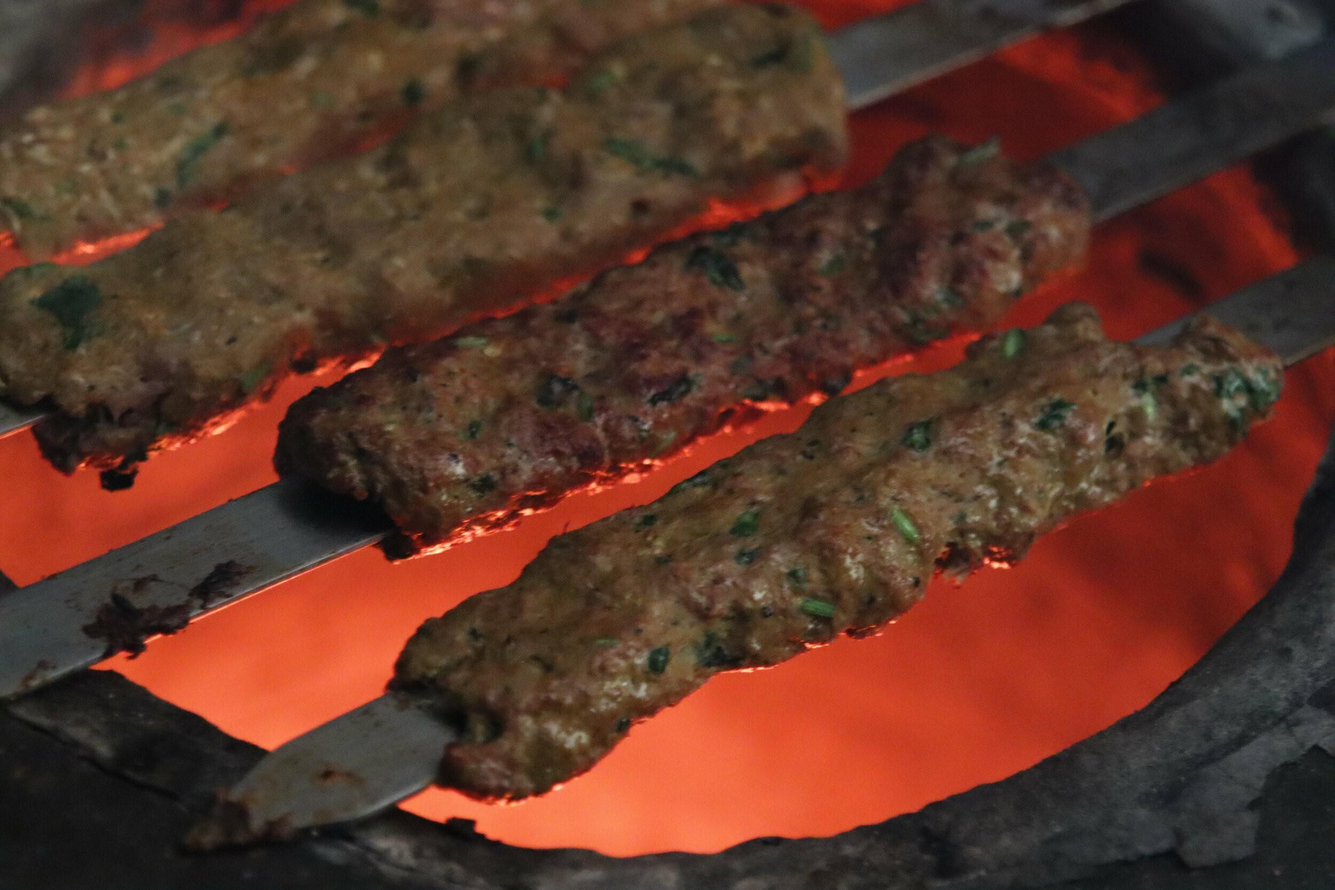Kebab: (385, 300, 1279, 804), (0, 0, 848, 489), (276, 128, 1086, 559), (0, 0, 700, 259)
